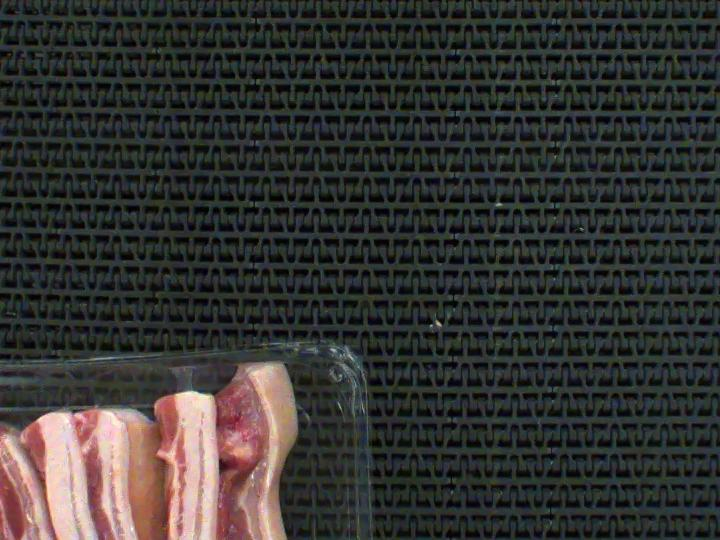packaging-error: (146, 325, 350, 412)
